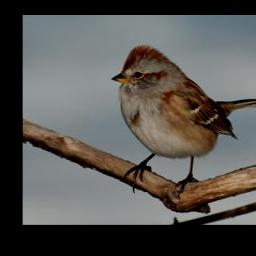Sparrow: (109, 43, 256, 201)
